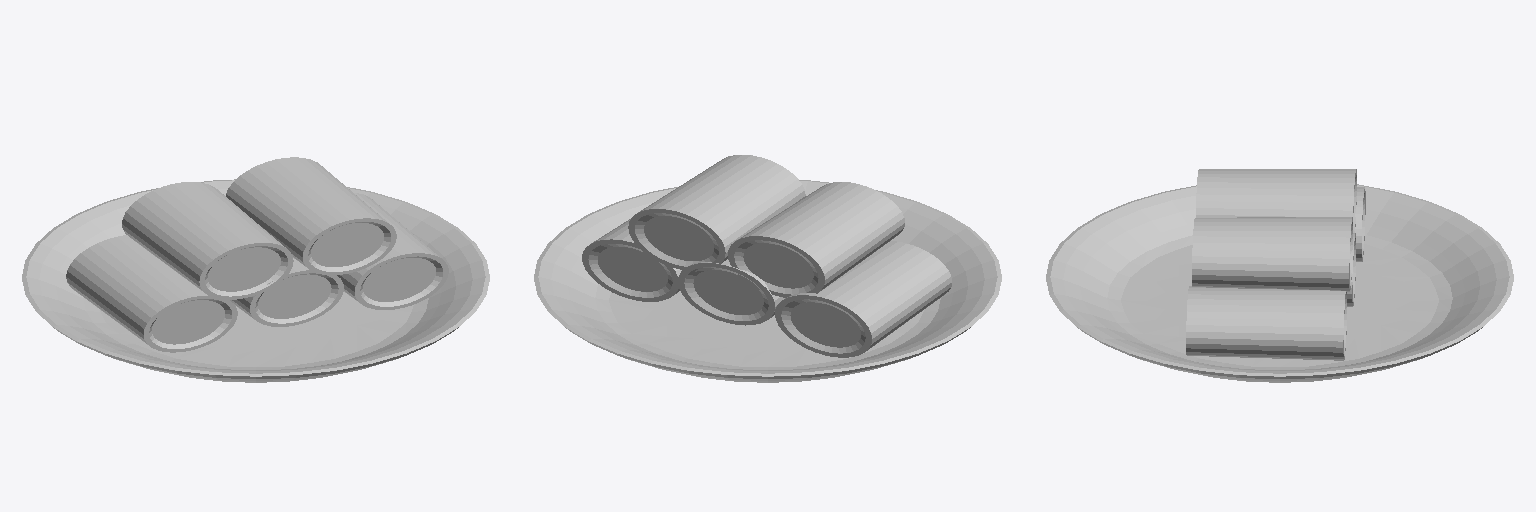
The model's file is DADAR GULUNG ISI ENTEN.obj.
3 views of the same model, side by side, from view 1: azimuth 30°, elevation 25°; view 2: azimuth 150°, elevation 25°; view 3: azimuth 270°, elevation 25° (orthographic).
Visible parts, largest first — view 1: Cylinder, Cylinder.003, Cylinder.016, Cylinder.004, Cylinder.002, Cylinder.001, Cylinder.006; view 2: Cylinder, Cylinder.003, Cylinder.004, Cylinder.016, Cylinder.002, Cylinder.001; view 3: Cylinder, Cylinder.004, Cylinder.002, Cylinder.003, Cylinder.016.
Part boxes in pixels (x1,y1,x2,y2): Cylinder: (22, 179, 489, 382); Cylinder.003: (122, 182, 293, 299); Cylinder.016: (66, 235, 237, 352); Cylinder.004: (226, 157, 396, 274); Cylinder.002: (337, 193, 448, 309); Cylinder.001: (230, 258, 343, 326); Cylinder.006: (311, 223, 383, 266); Cylinder: (534, 180, 1001, 382); Cylinder.003: (728, 182, 904, 297); Cylinder.004: (628, 155, 805, 271); Cylinder.016: (775, 241, 951, 357); Cylinder.002: (582, 219, 681, 301); Cylinder.001: (678, 259, 784, 325); Cylinder: (1046, 184, 1513, 382); Cylinder.004: (1192, 217, 1352, 291); Cylinder.002: (1186, 286, 1346, 360); Cylinder.003: (1196, 169, 1356, 232); Cylinder.016: (1355, 187, 1365, 261).
Bounding box in the file's own units: 2.31 × 0.619 × 2.31.